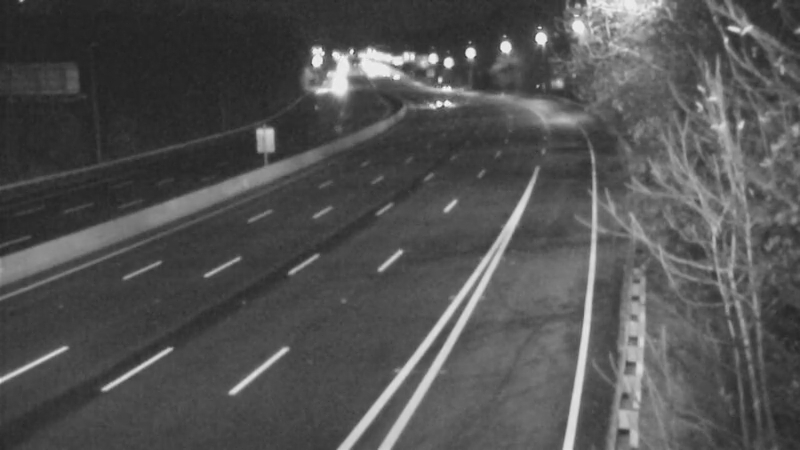vehicle: (420, 62, 470, 112), (416, 78, 466, 128)
